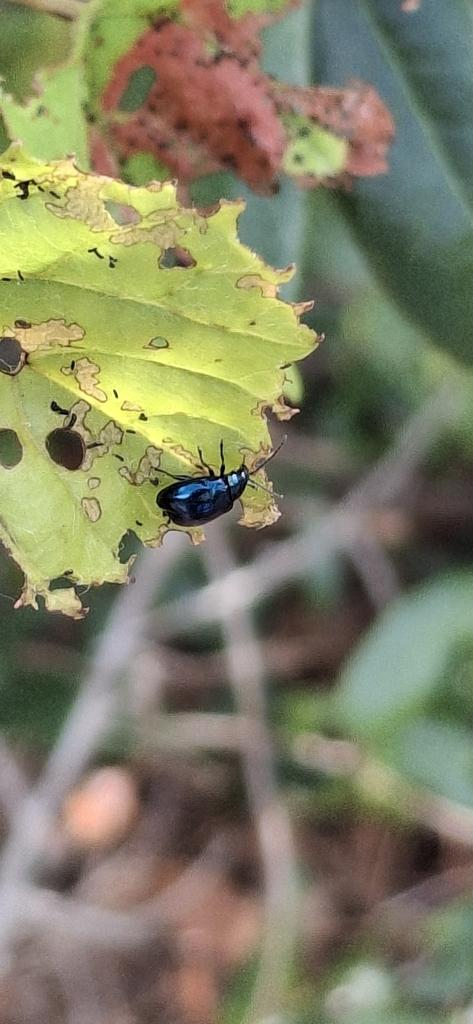flea_beetle: (129, 408, 295, 566)
